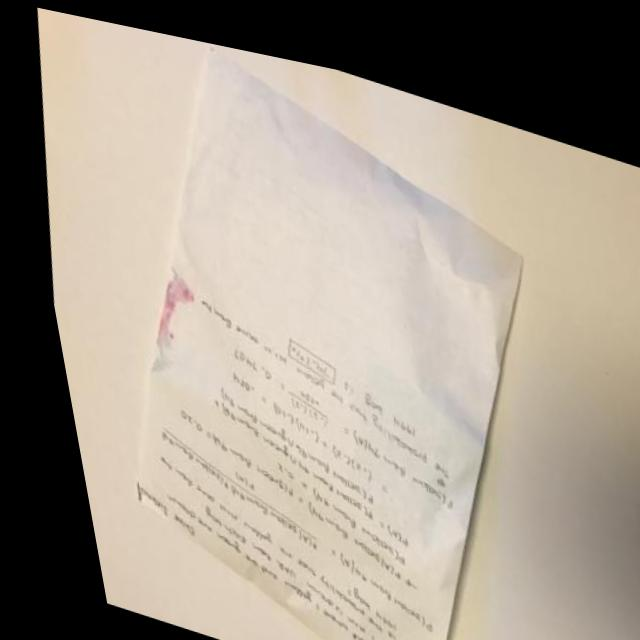paper: (23, 4, 640, 640)
